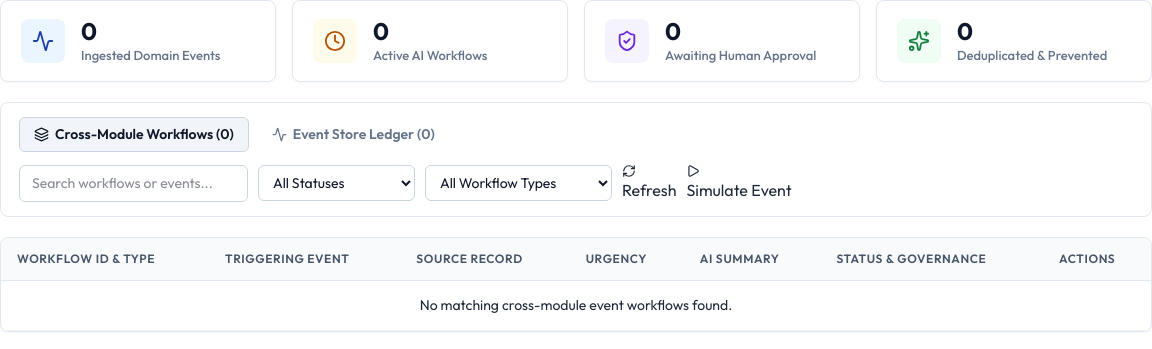
Scenario: EventWorkflowsTab Component › switches to Event Store Ledger sub-tab
Click the button "Event Store Ledger (0)": (353, 135) top-left (257, 117), bottom-right (450, 152)
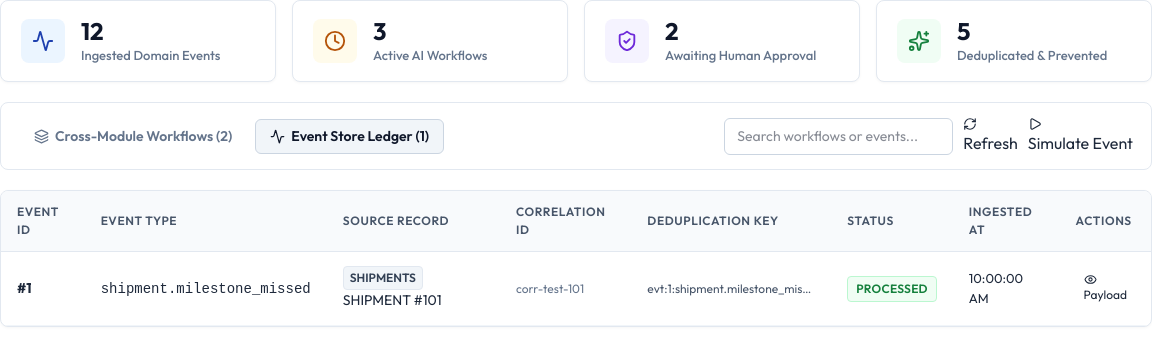
Check: the text "evt:1:shipment.milestone_missed:SHIPMENT:101:corr-test-101" is shown, box top-left (631, 252), bottom-right (831, 326)
